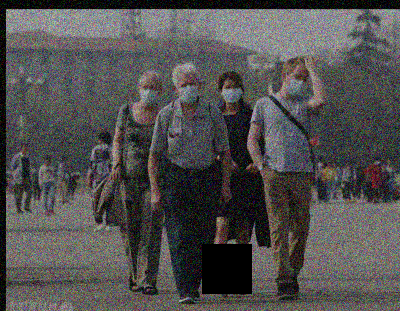with_mask: (285, 73, 308, 98), (176, 79, 198, 105), (138, 82, 158, 105), (220, 84, 242, 104)
without_mask: (20, 144, 26, 153), (43, 157, 49, 165)
